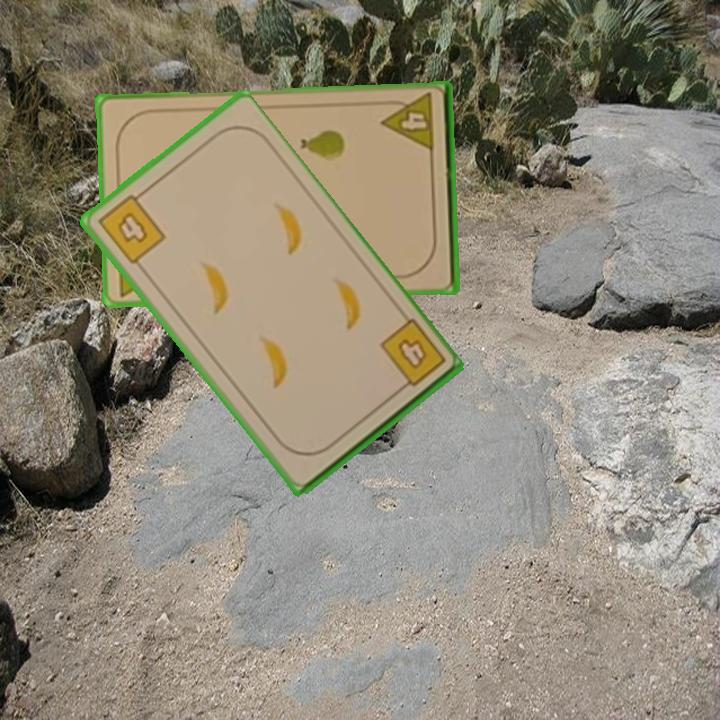4b: (94, 187, 169, 268), (375, 315, 449, 396)
4p: (378, 90, 437, 155)
